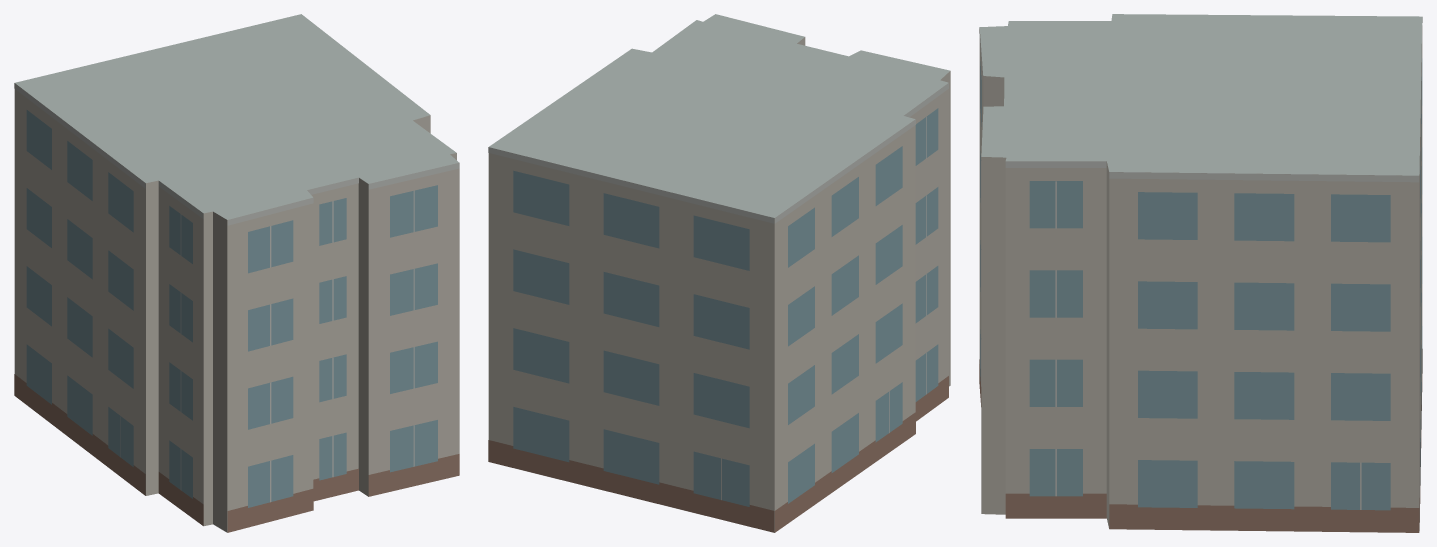
The model's file is survey-upis-33020296.glb.
The picture shows the model from 3 angles, left to right: view 1: azimuth 30°, elevation 25°; view 2: azimuth 150°, elevation 25°; view 3: azimuth 270°, elevation 25°; orthographic projection. The views are drawn at different scales.
Visible parts, largest first — view 1: survey-upis-33020296.tmp; view 2: survey-upis-33020296.tmp; view 3: survey-upis-33020296.tmp.
Part boxes in pixels (bbox=[...]): survey-upis-33020296.tmp: bbox=[14, 14, 459, 532]; survey-upis-33020296.tmp: bbox=[488, 14, 950, 532]; survey-upis-33020296.tmp: bbox=[979, 14, 1422, 532].
Size of the model in its own units: 12.82 by 13.2 by 14.84.
